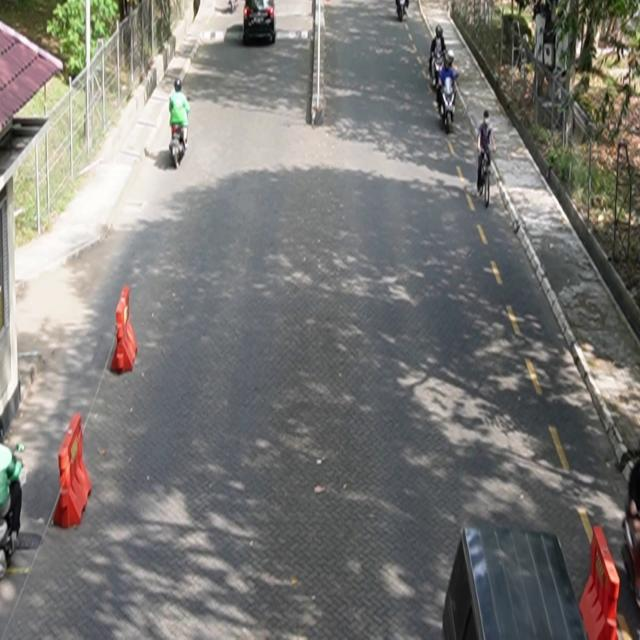car: (243, 1, 276, 45)
